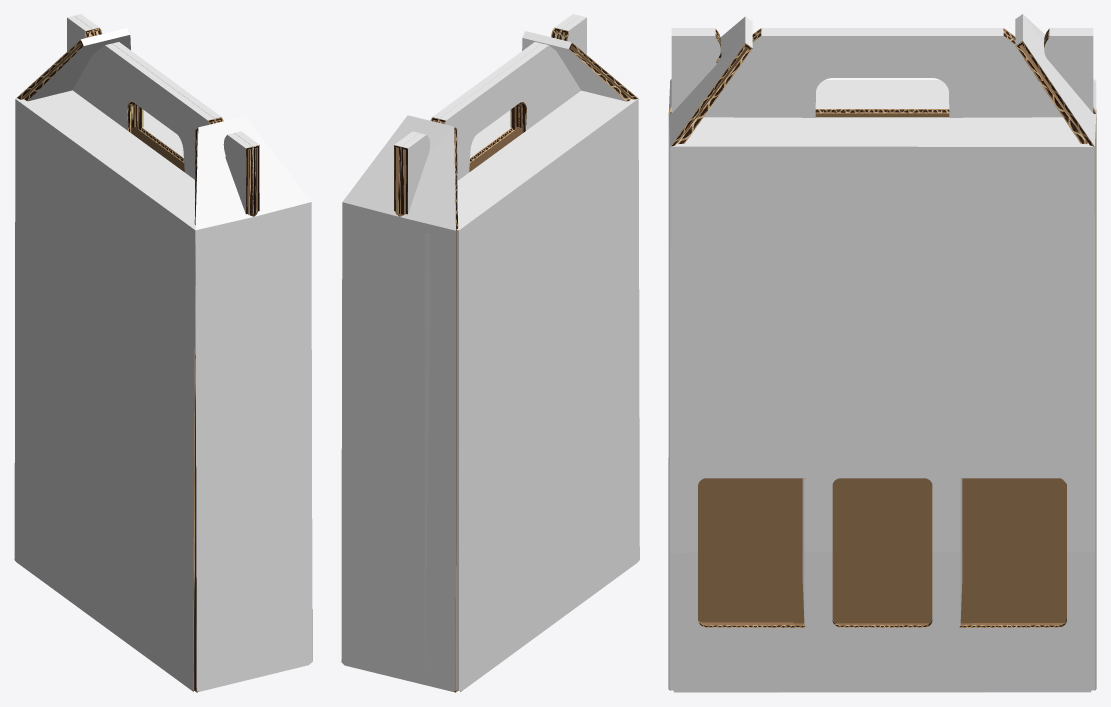
File: troquel4e0066-BIS.gltf
The picture shows the model from 3 angles, left to right: view 1: azimuth 30°, elevation 25°; view 2: azimuth 150°, elevation 25°; view 3: azimuth 270°, elevation 25°; orthographic projection. The views are drawn at different scales.
Parts seen in each view (by area): view 1: Curve.001; view 2: Curve.001; view 3: Curve.001.
Part boxes in pixels (left/top/right/bottom): Curve.001: left=14, top=14, right=312, bottom=692; Curve.001: left=341, top=14, right=639, bottom=692; Curve.001: left=668, top=14, right=1096, bottom=692.
Bounding box in the file's own units: 0.0742 × 0.3179 × 0.195.
Materials: 3 (1 with a texture image).
